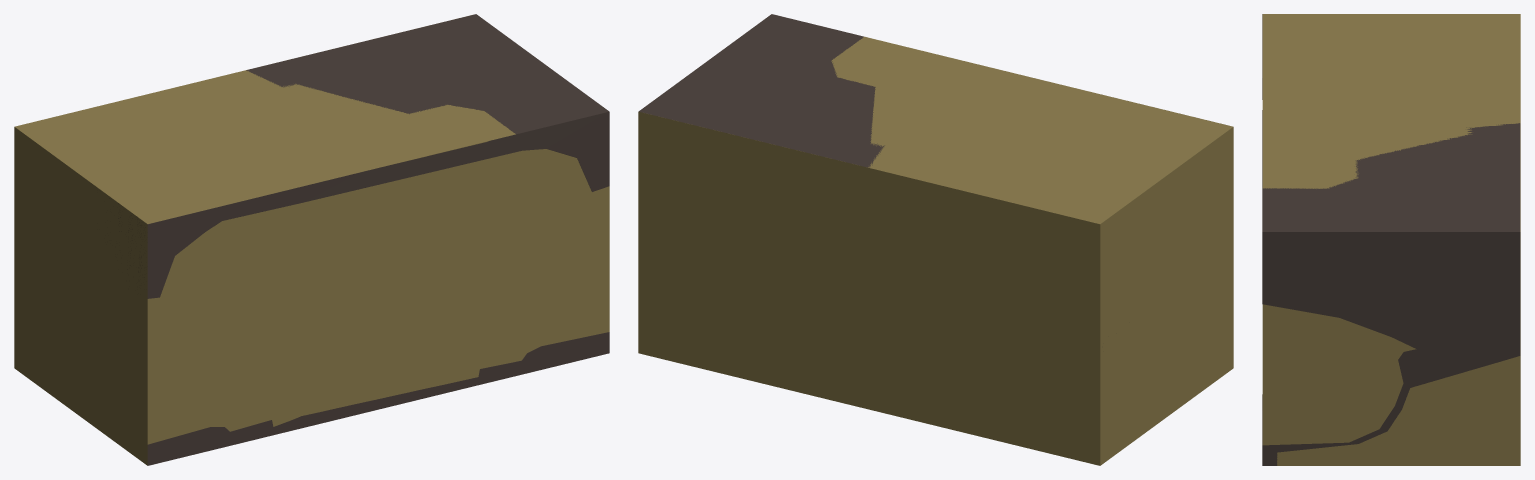
File: room_soldier.FBX
The picture shows the model from 3 angles, left to right: view 1: azimuth 30°, elevation 25°; view 2: azimuth 150°, elevation 25°; view 3: azimuth 270°, elevation 25°; orthographic projection. The views are drawn at different scales.
Visible parts, largest first — view 1: blank_room_war, room_WAR; view 2: blank_room_war, room_WAR; view 3: blank_room_war, room_WAR.
Boxes of the visible parts, box(x1,y1,x2,y2) form: blank_room_war: box(14, 70, 609, 465); room_WAR: box(109, 14, 609, 465); blank_room_war: box(638, 36, 1233, 465); room_WAR: box(639, 14, 884, 167); blank_room_war: box(1262, 14, 1520, 465); room_WAR: box(1262, 14, 1520, 465).
Bounding box in the file's own units: 236 × 118 × 118.
